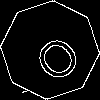O: (25, 25, 85, 86)
